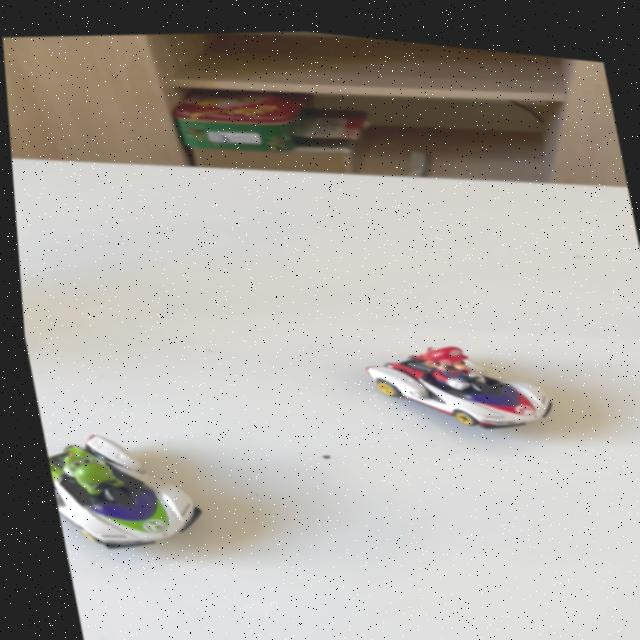mario: (335, 309, 579, 448)
yoshi: (34, 405, 226, 571)
